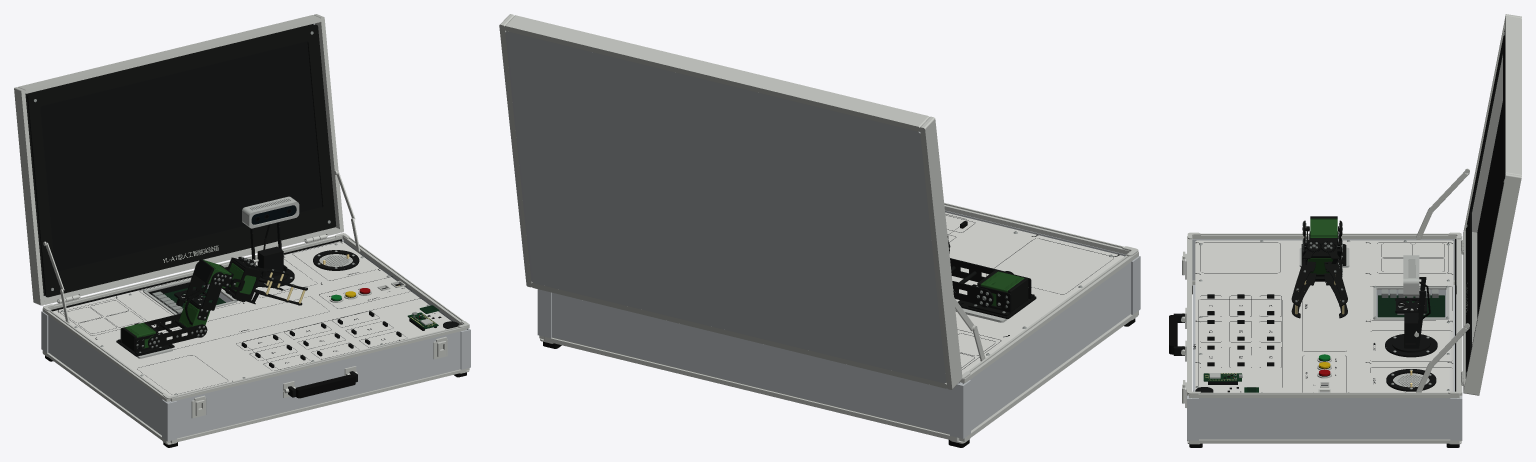
The model's file is experimental-box-lite.glb.
3 views of the same model, side by side, from view 1: azimuth 30°, elevation 25°; view 2: azimuth 150°, elevation 25°; view 3: azimuth 270°, elevation 25° (orthographic). The views are drawn at different scales.
Visible parts, largest first — view 1: lid_inner_back, screen_glass, work_panel, screen_bezel, case_end_-1, case_side_-1, lid, lid_horizontal_rail_-1, lid_vertical_rail_-1, panel_silkscreen, edge_short_-1_98, edge_short_-1_14 (+12 smaller); view 2: lid_rear_skin, case, work_panel, case_side_-1, lid_horizontal_rail_-1, lid_vertical_rail_-1, lid, edge_short_1_14, edge_long_-1_98, edge_short_-1_98, edge_long_-1_14, corner_angle_-1_1 (+1 smaller); view 3: work_panel, case, lid, screen_glass, lid_horizontal_rail_-1, lid_inner_back, lid_vertical_rail_-1, screen_bezel, panel_silkscreen, edge_long_1_98, edge_long_1_14, edge_long_-1_98 (+17 smaller).
Part boxes in pixels (bbox=[...]): lid_inner_back: bbox=[25, 24, 322, 295]; screen_glass: bbox=[41, 42, 321, 270]; work_panel: bbox=[53, 241, 451, 395]; screen_bezel: bbox=[27, 24, 336, 297]; case_end_-1: bbox=[170, 330, 465, 437]; case_side_-1: bbox=[48, 316, 168, 435]; lid: bbox=[43, 14, 360, 322]; lid_horizontal_rail_-1: bbox=[18, 15, 320, 93]; lid_vertical_rail_-1: bbox=[14, 87, 44, 305]; panel_silkscreen: bbox=[58, 241, 450, 394]; edge_short_-1_98: bbox=[170, 326, 466, 401]; edge_short_-1_14: bbox=[170, 369, 466, 443]; lid_rear_skin: bbox=[505, 31, 946, 383]; case: bbox=[552, 292, 960, 434]; work_panel: bbox=[945, 212, 1124, 374]; case_side_-1: bbox=[962, 262, 1130, 430]; lid_horizontal_rail_-1: bbox=[504, 15, 929, 131]; lid_vertical_rail_-1: bbox=[919, 116, 962, 389]; lid: bbox=[499, 14, 985, 388]; edge_short_1_14: bbox=[544, 337, 959, 441]; edge_long_-1_98: bbox=[960, 251, 1138, 383]; edge_short_-1_98: bbox=[944, 203, 1130, 254]; edge_long_-1_14: bbox=[959, 311, 1138, 441]; corner_angle_-1_1: bbox=[950, 380, 970, 438]; work_panel: bbox=[1195, 240, 1453, 392]; case: bbox=[1192, 398, 1459, 439]; lid: bbox=[1416, 168, 1521, 395]; screen_glass: bbox=[1472, 58, 1502, 341]; lid_horizontal_rail_-1: bbox=[1505, 16, 1521, 176]; lid_inner_back: bbox=[1477, 101, 1502, 317]; lid_vertical_rail_-1: bbox=[1463, 14, 1521, 233]; screen_bezel: bbox=[1465, 29, 1504, 378]; panel_silkscreen: bbox=[1193, 242, 1467, 392]; edge_long_1_98: bbox=[1189, 392, 1459, 397]; edge_long_1_14: bbox=[1189, 439, 1459, 443]; edge_long_-1_98: bbox=[1192, 233, 1456, 238].
Bounding box in the file's own units: 0.638 × 0.5058 × 0.5898.
26 materials, 1 textured.
